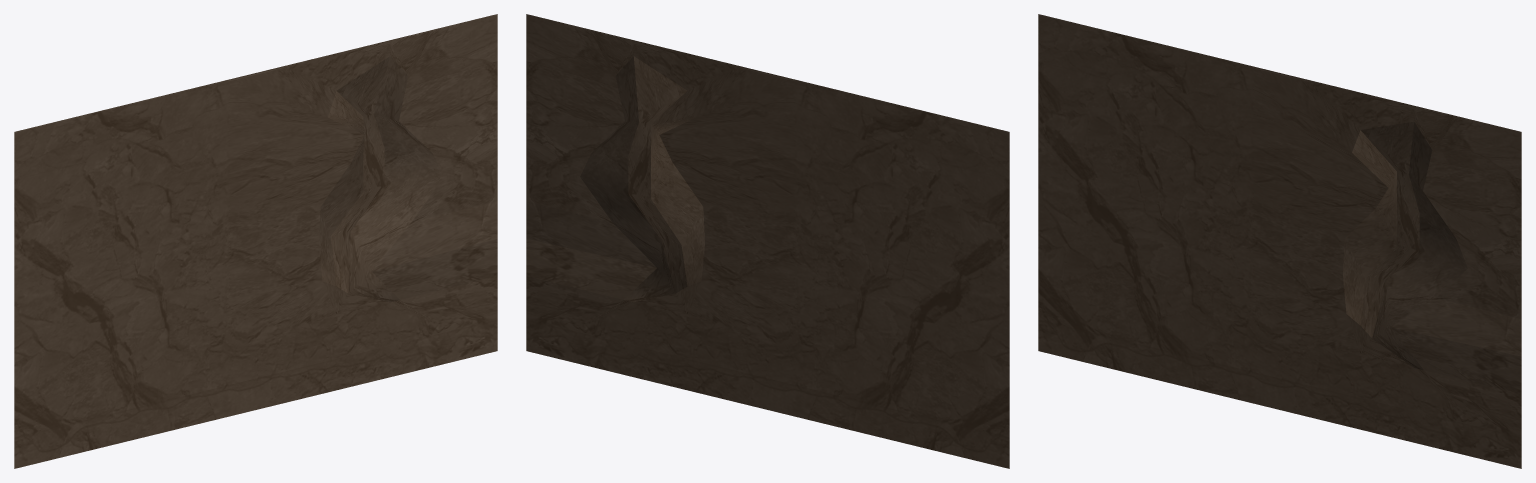
The model's file is fundo1.FBX.
3 views of the same model, side by side, from view 1: azimuth 30°, elevation 25°; view 2: azimuth 150°, elevation 25°; view 3: azimuth 330°, elevation 25° (orthographic).
Parts seen in each view (by area): view 1: Plane007; view 2: Plane007; view 3: Plane007.
Boxes of the visible parts, x1=… form: Plane007: x1=14, y1=14, x2=497, y2=468; Plane007: x1=526, y1=14, x2=1009, y2=468; Plane007: x1=1038, y1=14, x2=1521, y2=468.
Size of the model in its own units: 244 by 163 by 7.5.
